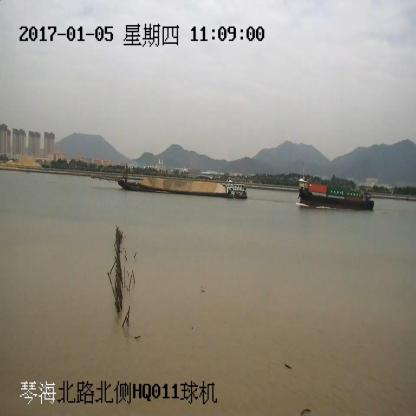Container Ship: (298, 175, 374, 210)
